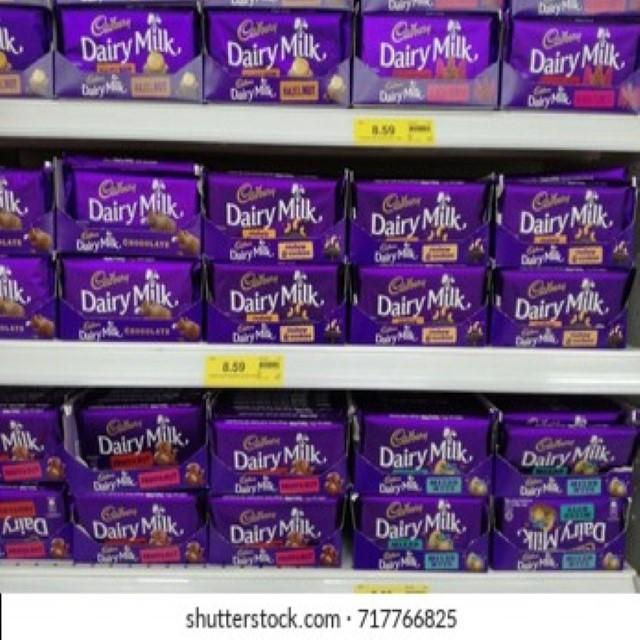cadbury_chocolate: (68, 158, 207, 255), (58, 10, 194, 98), (206, 13, 346, 97), (510, 20, 640, 108), (373, 8, 492, 102), (74, 263, 204, 342), (362, 184, 490, 264), (348, 274, 490, 344), (218, 176, 337, 256), (363, 417, 495, 488), (508, 187, 630, 263), (218, 416, 347, 486), (216, 270, 346, 338), (515, 408, 637, 480), (492, 274, 623, 338), (82, 403, 198, 475), (355, 508, 492, 567), (214, 505, 338, 560), (80, 503, 197, 560), (512, 513, 632, 567), (0, 159, 53, 253), (0, 258, 56, 346), (5, 497, 62, 565), (0, 415, 63, 475)
